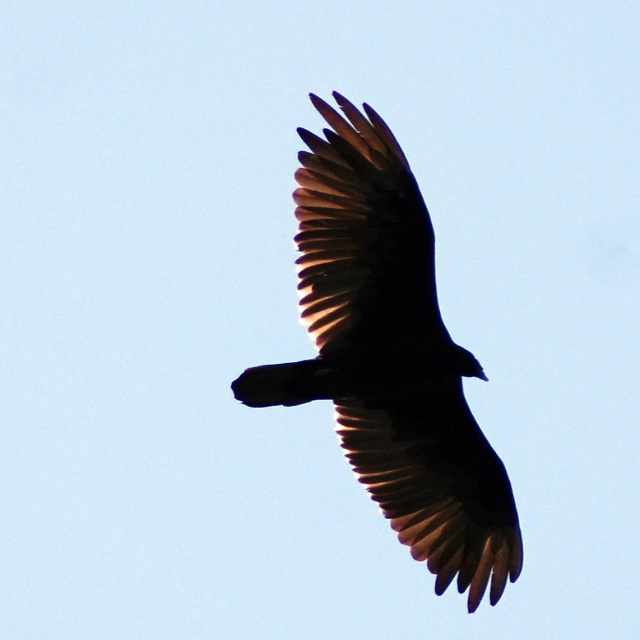Eagle: (221, 83, 533, 615)
